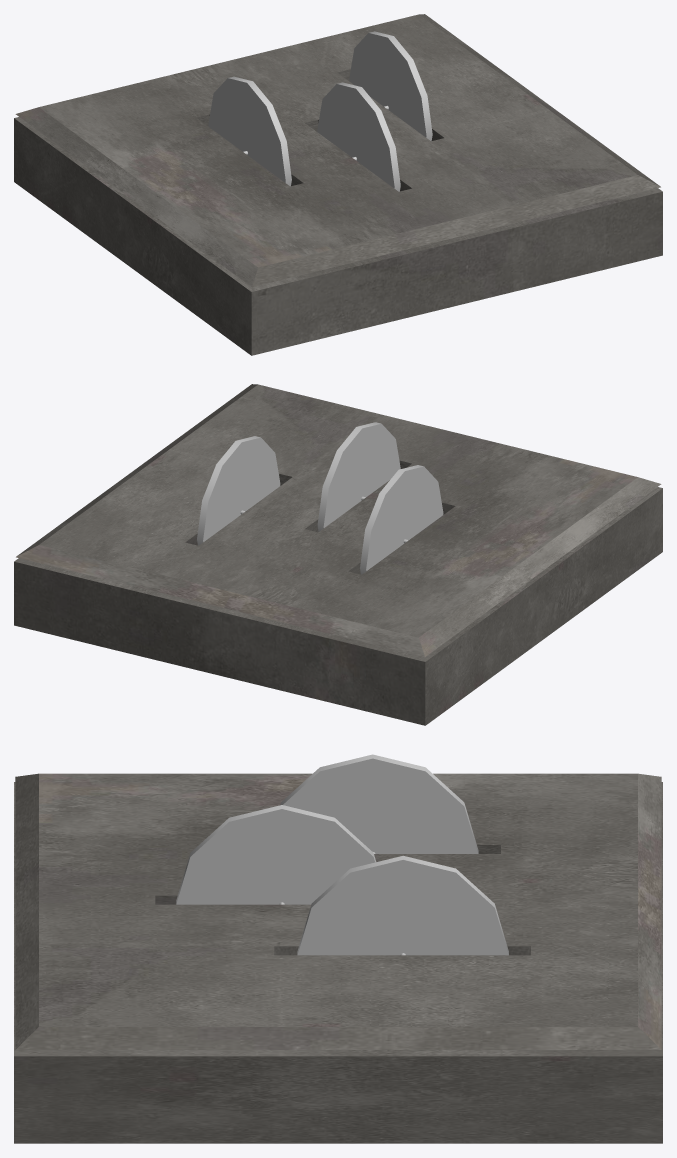
File: Trap_3.fbx
3 views of the same model, one above another, from view 1: azimuth 30°, elevation 25°; view 2: azimuth 150°, elevation 25°; view 3: azimuth 270°, elevation 25° (orthographic). The views are drawn at different scales.
Parts seen in each view (by area): view 1: Object007, Object008; view 2: Object007, Object008; view 3: Object007, Object008.
Boxes of the visible parts, x1,y1,x2,y2 form: Object007: [14, 14, 662, 355]; Object008: [208, 31, 432, 191]; Object007: [14, 384, 662, 725]; Object008: [197, 422, 443, 574]; Object007: [14, 773, 662, 1143]; Object008: [176, 754, 508, 955].
Size of the model in its own units: 46.59 by 15.79 by 46.59.
